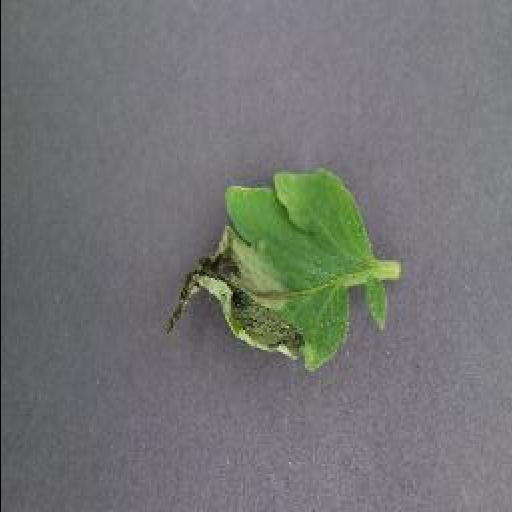disease_tomato: (162, 168, 388, 374)
